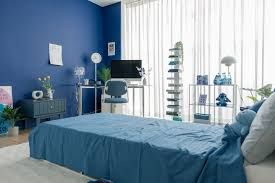Bed: (28, 87, 275, 183)
Chair: (99, 76, 134, 113)
curtain: (124, 2, 275, 119)
